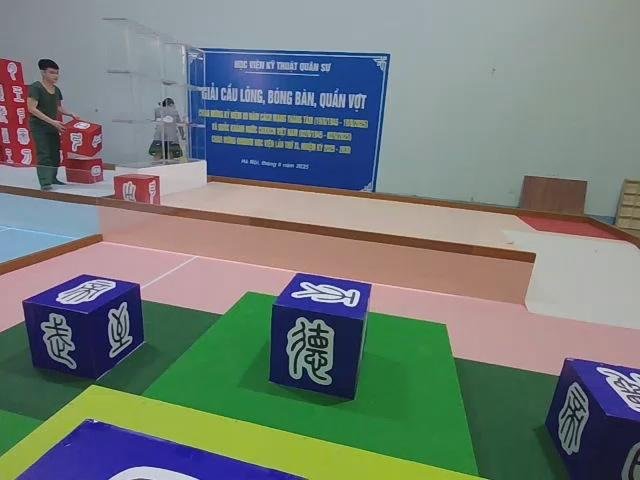R2 Fake Blue: (271, 272, 376, 401), (19, 276, 143, 383), (546, 360, 640, 480)
